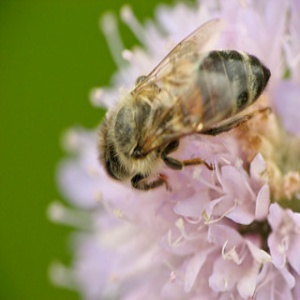bee: (98, 18, 276, 184)
